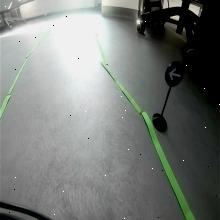left: (165, 61, 185, 87)
